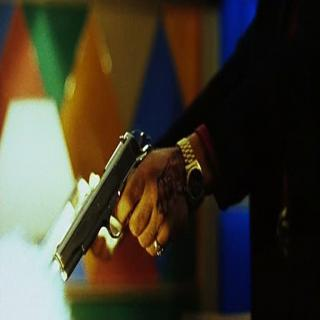gun: (40, 118, 212, 296)
